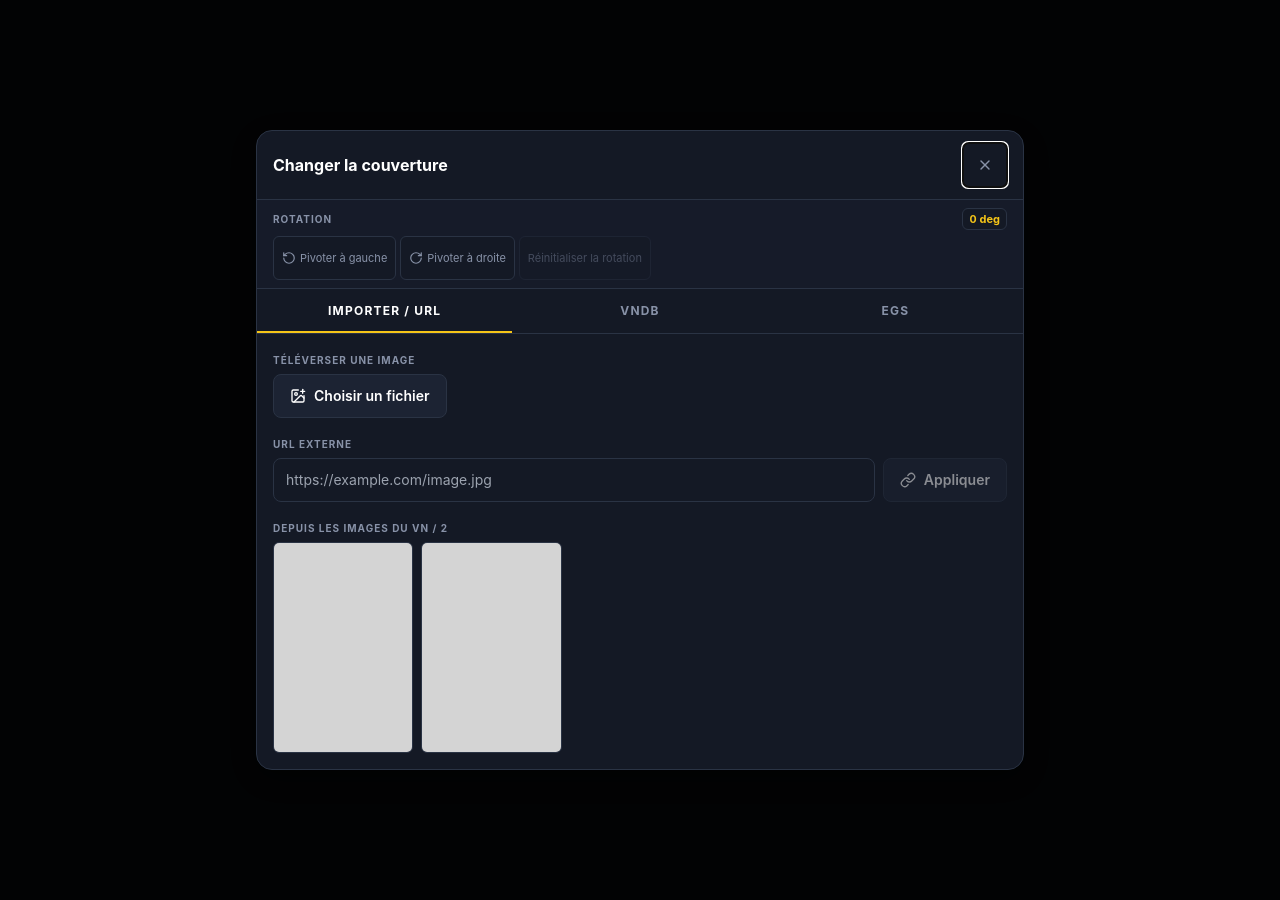
Test case: CoverSourcePicker › preserves EGS candidate cards and the automatic action while candidates load
This screenshot has width=1280, height=900.
Click the tab "EGS" at (895, 311), box top-left (768, 289), bottom-right (1023, 333)
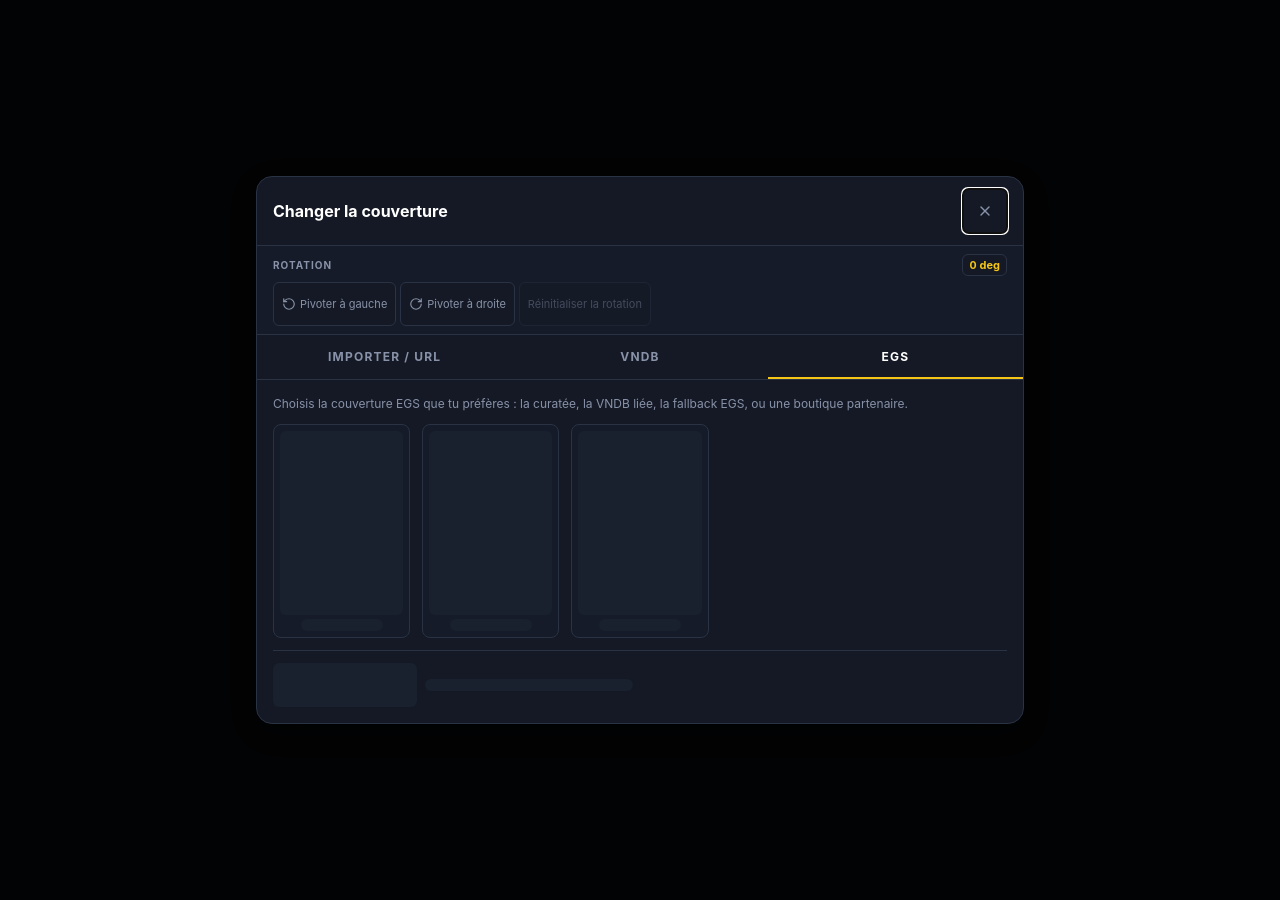
Expected: the number of list items is 3, top-left (273, 424), bottom-right (410, 638); top-left (422, 424), bottom-right (559, 638); top-left (571, 424), bottom-right (709, 638)
